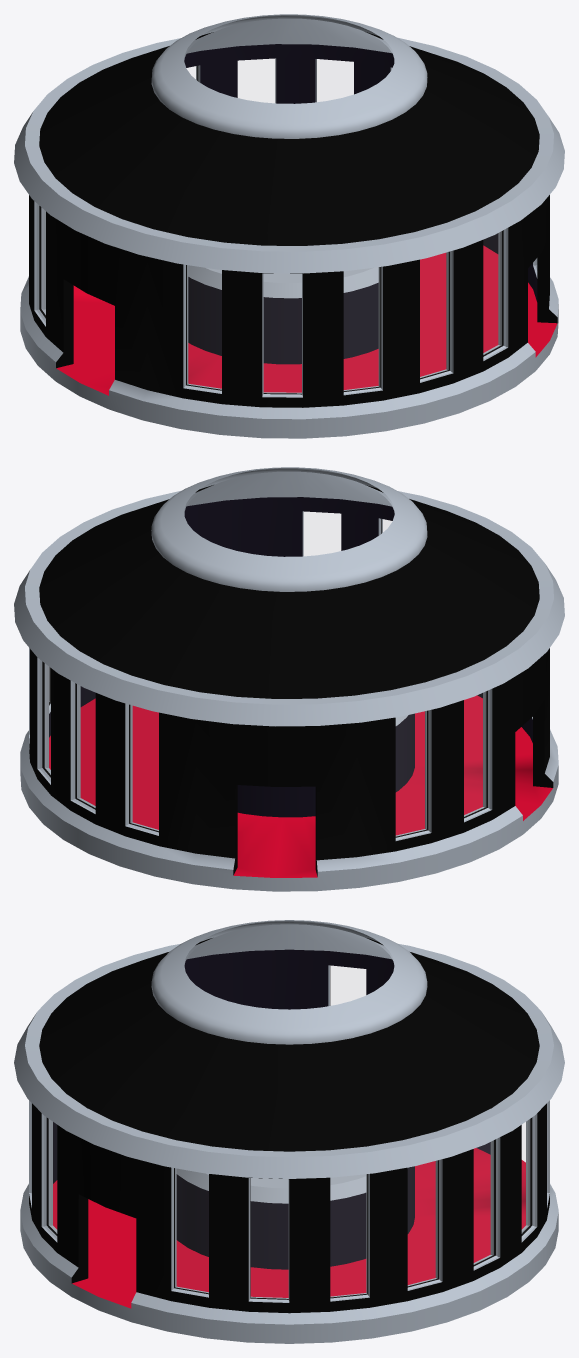
The model's file is CEON_THE_TOWER.glb.
3 renders of one model, top to bottom at view 1: azimuth 30°, elevation 25°; view 2: azimuth 150°, elevation 25°; view 3: azimuth 270°, elevation 25°, orthographic.
Parts seen in each view (by area): view 1: THE_TOWER; view 2: THE_TOWER; view 3: THE_TOWER.
Boxes of the visible parts, x1,y1,x2,y2 form: THE_TOWER: (14, 14, 564, 438); THE_TOWER: (14, 467, 564, 891); THE_TOWER: (14, 920, 564, 1343).
Bounding box in the file's own units: 16.31 × 8.66 × 16.31.
